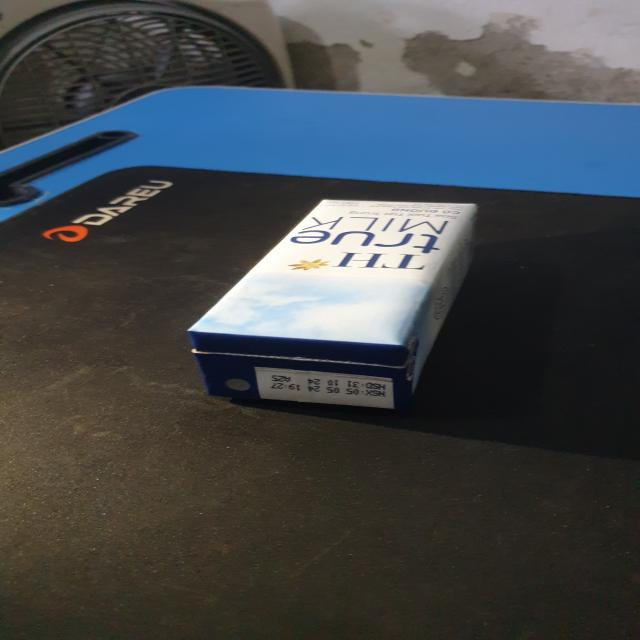TH: (189, 199, 478, 409)
